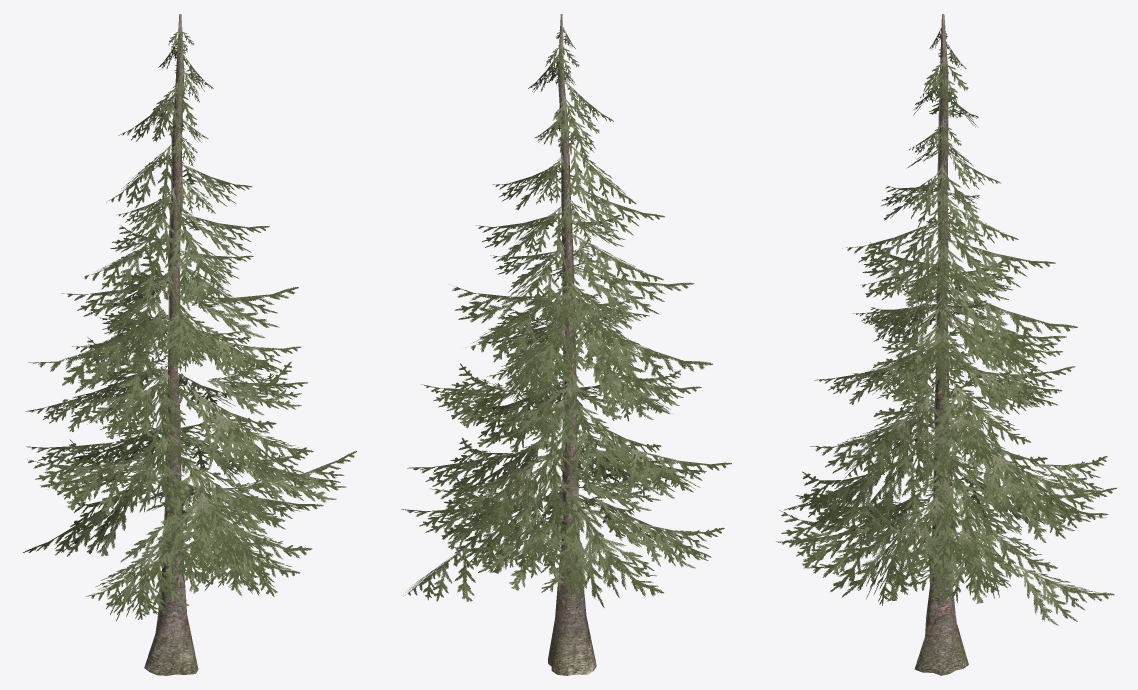
Rendered from Spruce_7_LOD2.fbx.
The picture shows the model from 3 angles, left to right: view 1: azimuth 30°, elevation 25°; view 2: azimuth 150°, elevation 25°; view 3: azimuth 270°, elevation 25°; orthographic projection.
Parts seen in each view (by area): view 1: spruce 2_1, spruce 1_0; view 2: spruce 2_1, spruce 1_0; view 3: spruce 2_1, spruce 1_0.
Part boxes in pixels (<box>): spruce 2_1: <box>23,27,356,621</box>; spruce 1_0: <box>144,14,198,675</box>; spruce 2_1: <box>401,27,731,607</box>; spruce 1_0: <box>548,14,596,675</box>; spruce 2_1: <box>776,27,1116,625</box>; spruce 1_0: <box>914,14,968,675</box>.
Size of the model in its own units: 248 by 500 by 246.
2 materials, 2 textured.
